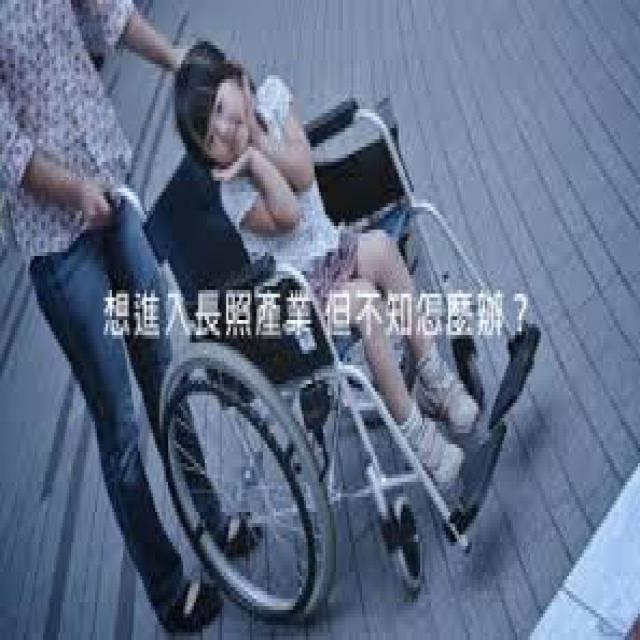wheelchairs: (67, 94, 546, 618)
